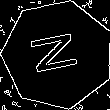N_E: (28, 30, 87, 80)
